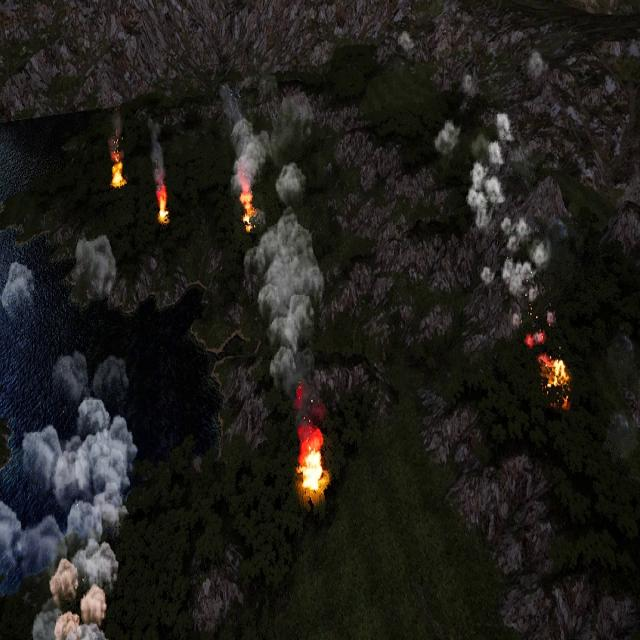fire: (298, 430, 328, 492), (538, 350, 569, 398), (239, 184, 256, 227), (110, 153, 126, 189), (158, 185, 170, 223)
smoke: (5, 346, 142, 635), (433, 104, 557, 345), (244, 161, 326, 413), (222, 80, 262, 192), (70, 234, 121, 304), (1, 256, 40, 326)
